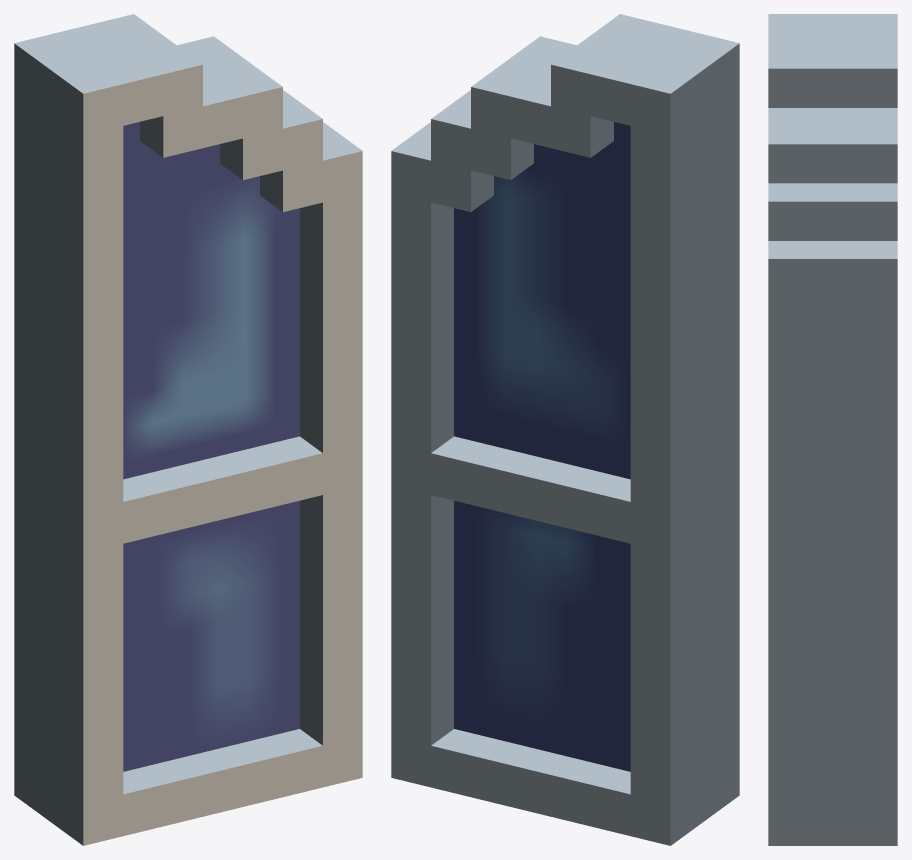
Rendered from DoorD_R.fbx.
3 views of the same model, side by side, from view 1: azimuth 30°, elevation 25°; view 2: azimuth 150°, elevation 25°; view 3: azimuth 270°, elevation 25° (orthographic). The views are drawn at different scales.
Parts seen in each view (by area): view 1: DoorD_R; view 2: DoorD_R; view 3: DoorD_R.
Part boxes in pixels (left/top/right/bottom): DoorD_R: left=14, top=14, right=362, bottom=845; DoorD_R: left=391, top=14, right=739, bottom=845; DoorD_R: left=768, top=14, right=897, bottom=845.
Size of the model in its own units: 7 by 18 by 3.
